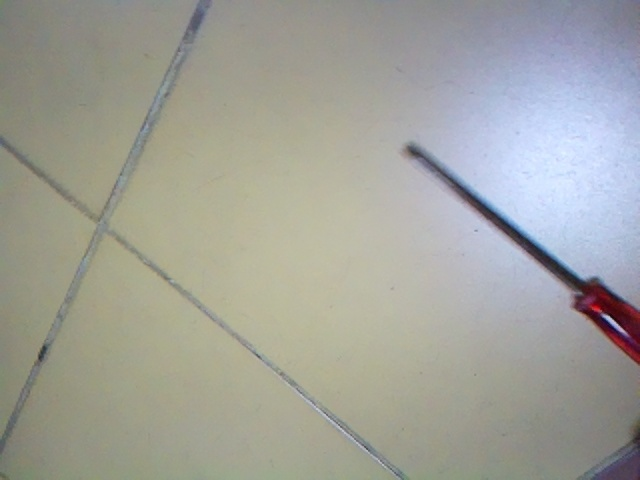redskrew: (400, 148, 640, 370)
